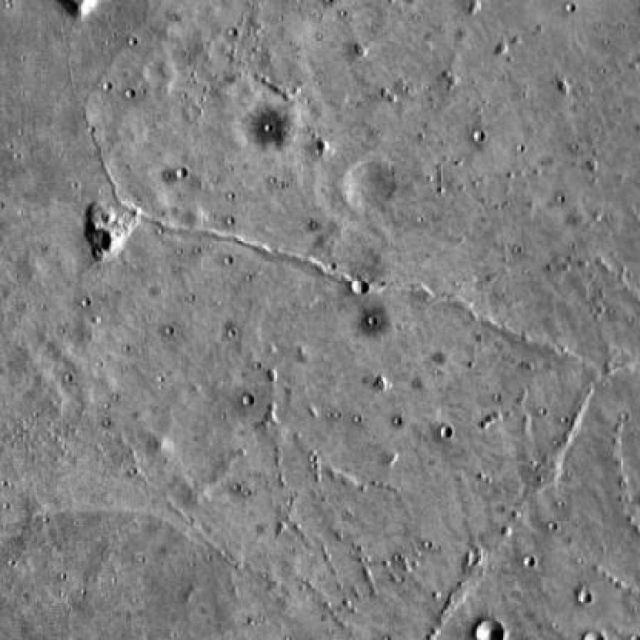crater: (347, 166, 395, 212), (471, 620, 500, 640), (352, 278, 368, 296)
